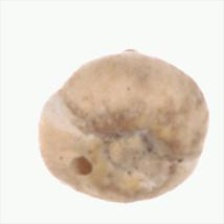L4: (37, 47, 209, 203)
